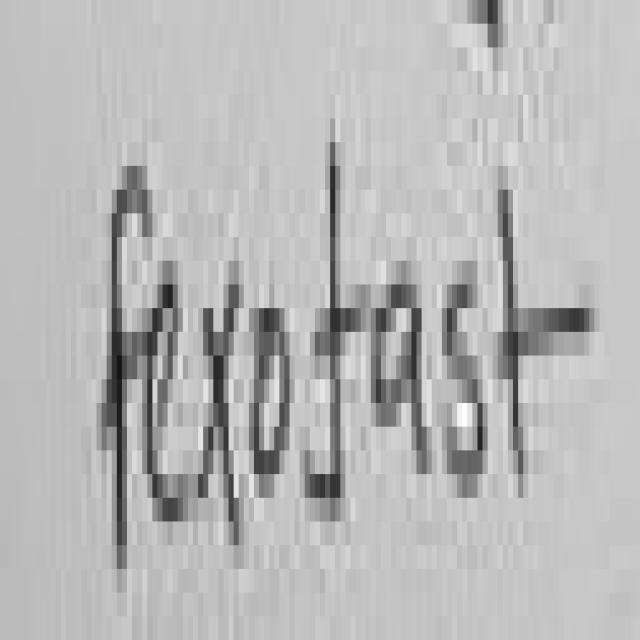F: (100, 138, 148, 593)
X: (198, 254, 242, 601)
a: (366, 206, 436, 550)
e: (144, 262, 190, 550)
f: (301, 101, 359, 564)
o: (244, 274, 292, 510)
s: (438, 226, 494, 534)
t: (489, 142, 596, 534)
